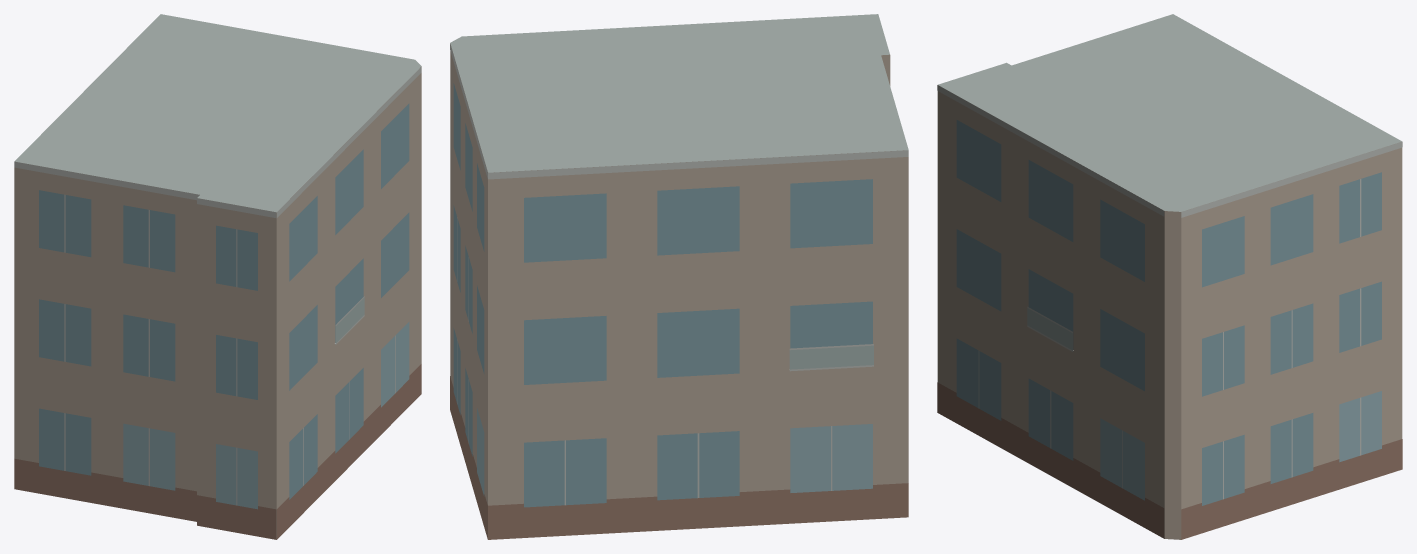
The model's file is survey-upis-32614672.glb.
The picture shows the model from 3 angles, left to right: view 1: azimuth 30°, elevation 25°; view 2: azimuth 150°, elevation 25°; view 3: azimuth 270°, elevation 25°; orthographic projection. The views are drawn at different scales.
Visible parts, largest first — view 1: survey-upis-32614672.tmp; view 2: survey-upis-32614672.tmp; view 3: survey-upis-32614672.tmp.
Boxes of the visible parts, x1,y1,x2,y2 form: survey-upis-32614672.tmp: (14, 14, 421, 539); survey-upis-32614672.tmp: (450, 14, 908, 539); survey-upis-32614672.tmp: (937, 14, 1402, 539).
Size of the model in its own units: 17.22 by 13.3 by 17.09.
